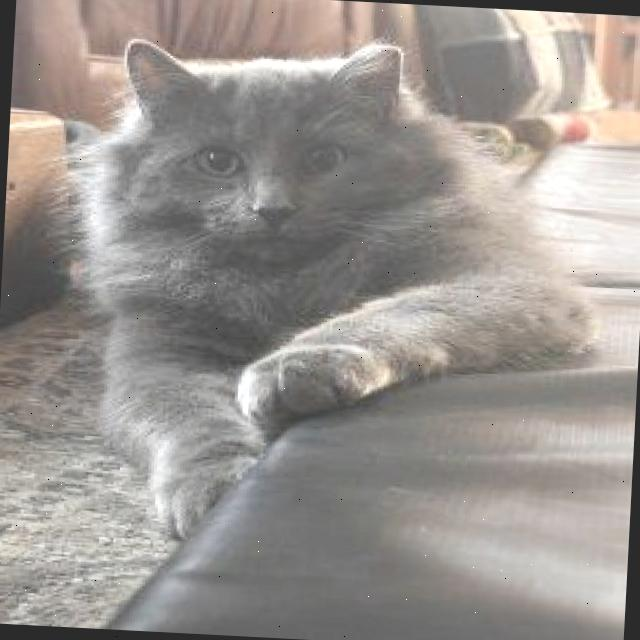domestic_long_hair_cat: (63, 23, 475, 306)
